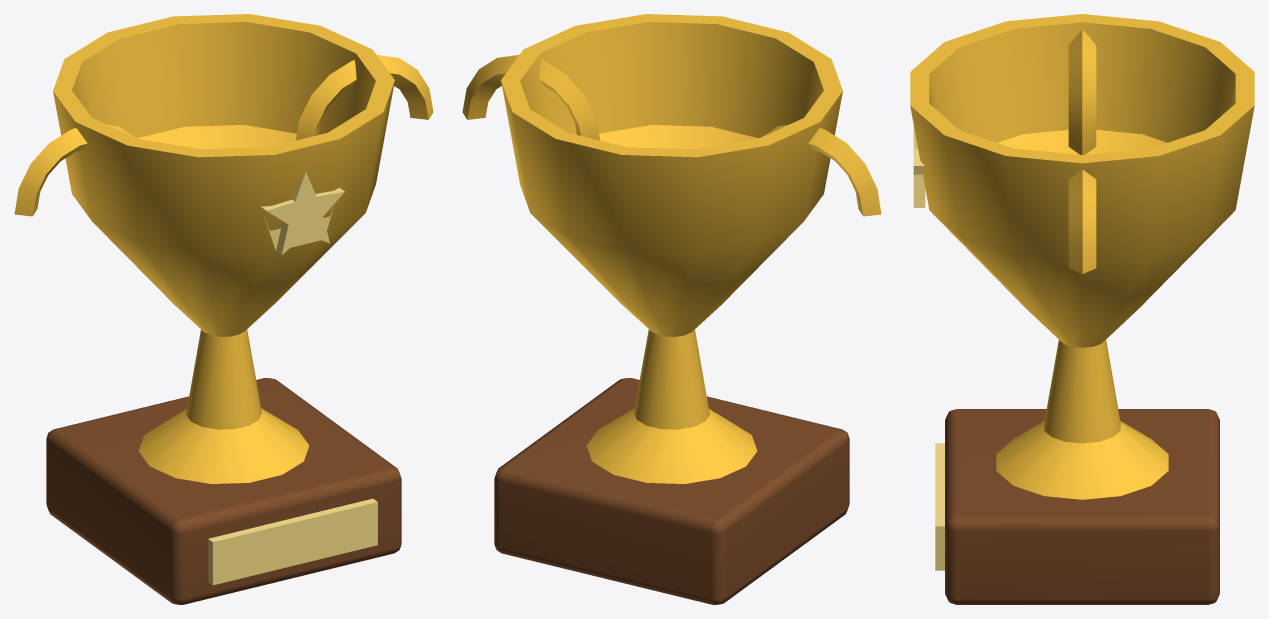
The model's file is Trophy.fbx.
3 views of the same model, side by side, from view 1: azimuth 30°, elevation 25°; view 2: azimuth 150°, elevation 25°; view 3: azimuth 270°, elevation 25° (orthographic). The views are drawn at different scales.
Parts seen in each view (by area): view 1: Trophy; view 2: Trophy; view 3: Trophy.
Boxes of the visible parts, x1,y1,x2,y2 form: Trophy: (14, 14, 433, 604); Trophy: (462, 14, 881, 604); Trophy: (910, 14, 1254, 604).
Size of the model in its own units: 2.54 by 2.6 by 1.75.
1 material, 1 textured.
